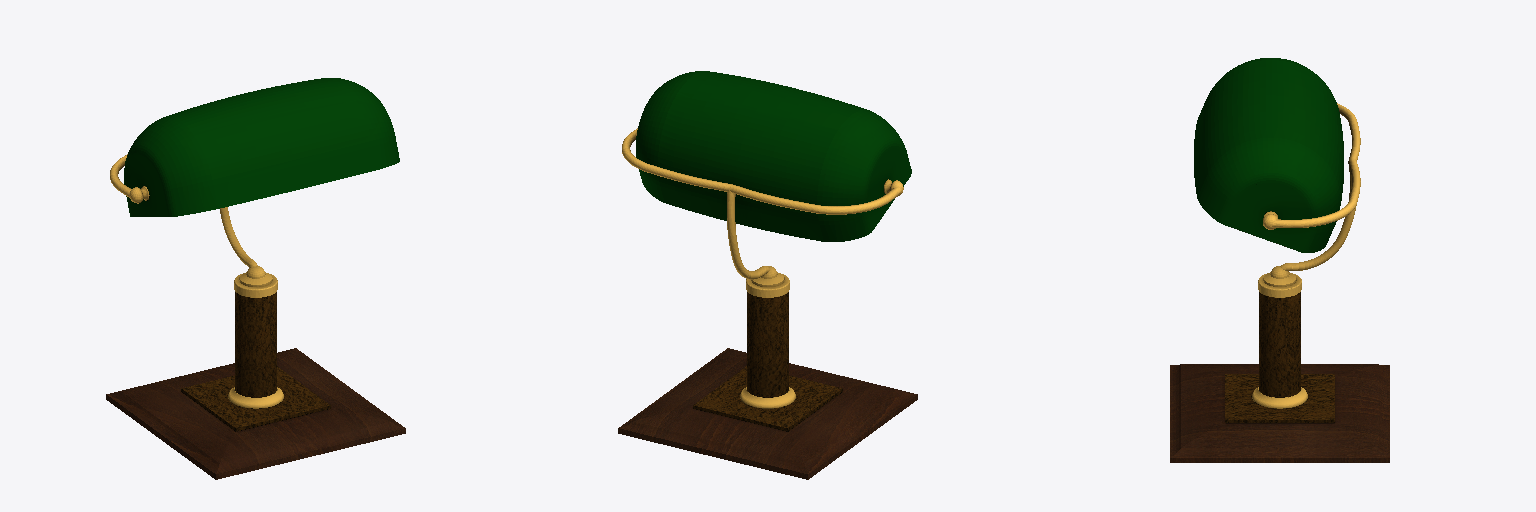
3 views of the same model, side by side, from view 1: azimuth 30°, elevation 25°; view 2: azimuth 150°, elevation 25°; view 3: azimuth 270°, elevation 25° (orthographic).
Visible parts, largest first — view 1: glass, osnov, stolb, truba, kolco; view 2: glass, osnov, stolb, truba, kolco; view 3: glass, osnov, stolb, truba, kolco.
Boxes of the visible parts, x1,y1,x2,y2 form: glass: [124, 78, 399, 216]; osnov: [106, 348, 405, 479]; stolb: [181, 292, 330, 431]; truba: [110, 154, 277, 297]; kolco: [228, 387, 283, 408]; glass: [636, 71, 911, 241]; osnov: [618, 348, 917, 479]; stolb: [693, 292, 842, 431]; truba: [622, 128, 903, 297]; kolco: [740, 387, 795, 408]; glass: [1194, 58, 1343, 252]; osnov: [1170, 364, 1389, 462]; stolb: [1225, 292, 1334, 422]; truba: [1258, 103, 1360, 297]; kolco: [1252, 387, 1307, 408].
Bounding box in the file's own units: 0.497 × 0.5831 × 0.36.
1 materials, 1 textured.